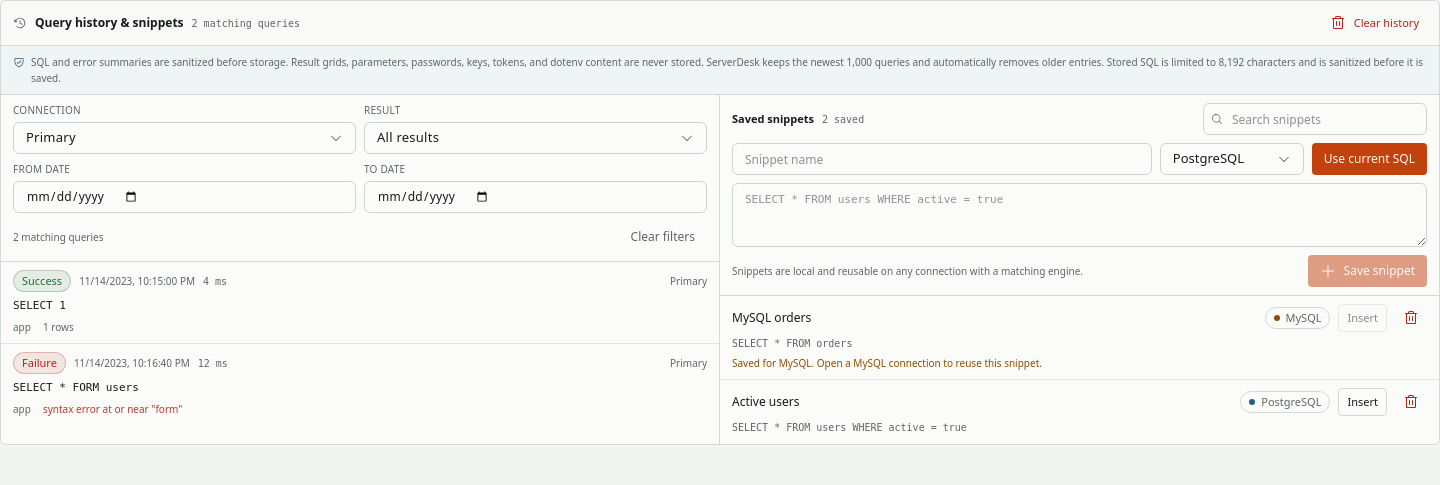
Test: DatabaseSqlHistoryPanel › saves the current SQL as a named snippet
Expected: the text "Active users" is shown, [732,393,800,410]
Type "Current database" into the field labelled "Snippet name" at (942, 159), box [732,143,1152,175]
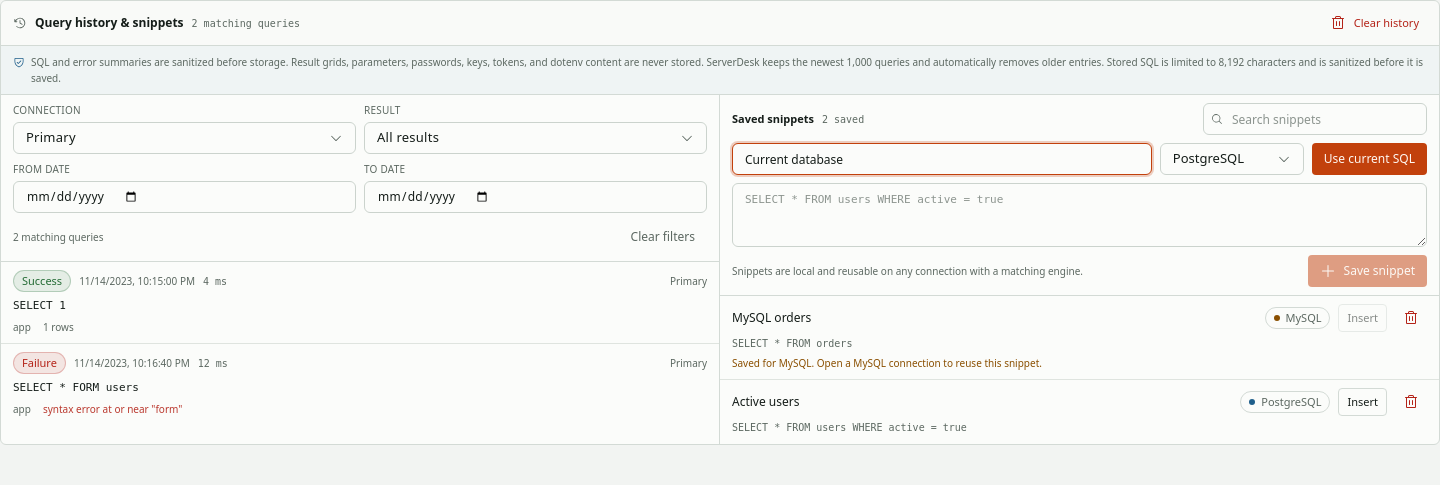
Click the button "Use current SQL" at (1369, 159), box [1312,143,1427,175]
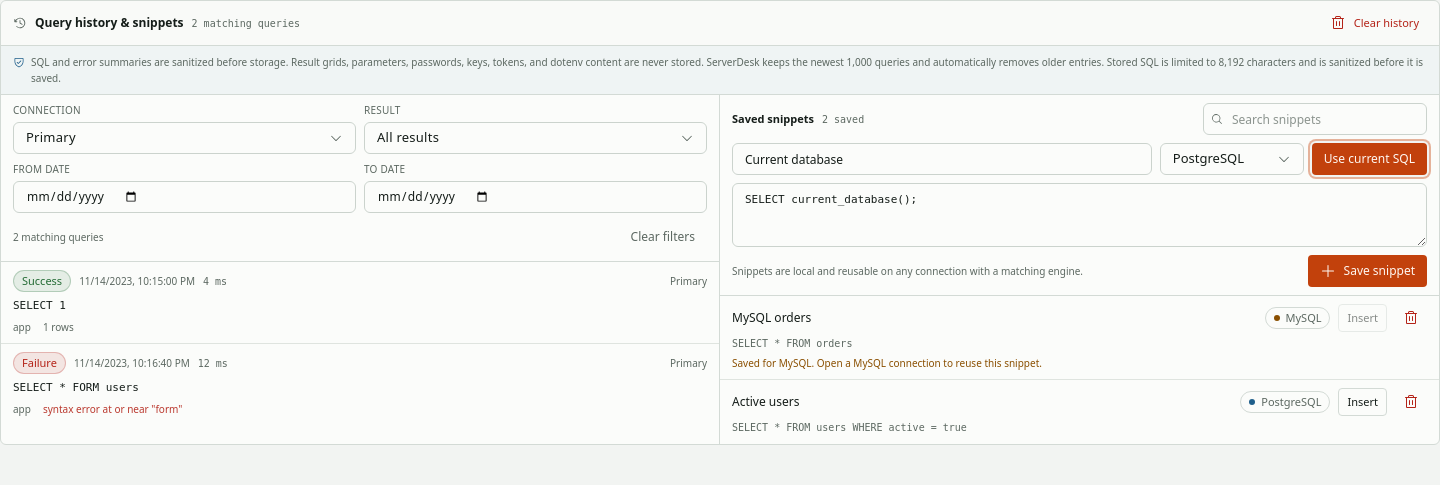
Click the button "Save snippet" at (1367, 271), box [1308,255,1427,287]
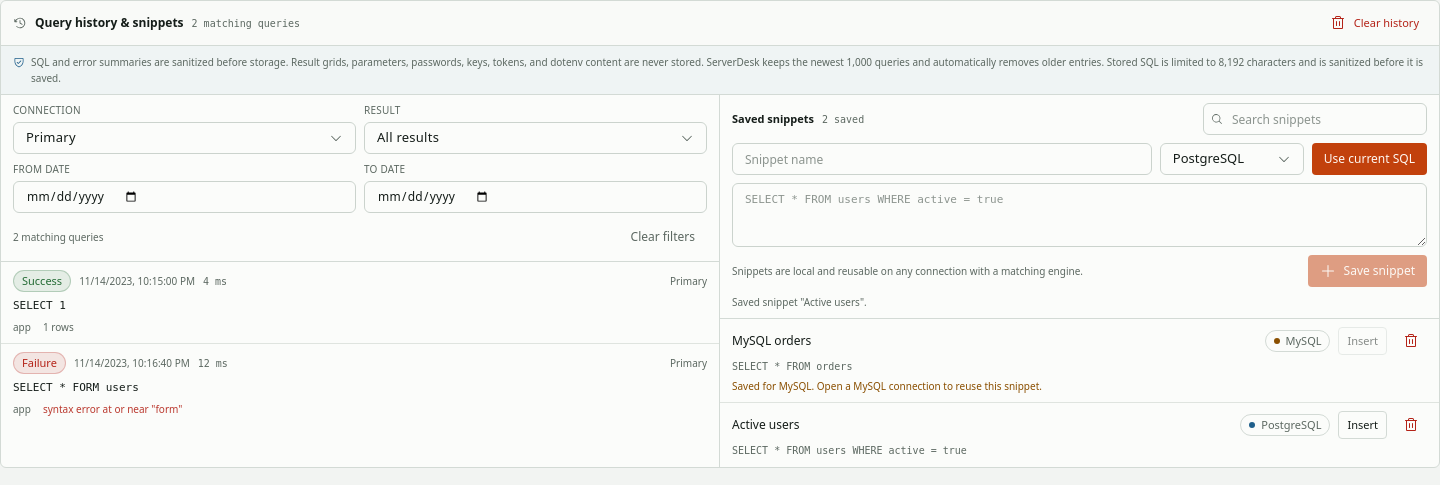
Expected: the message reads "Saved snippet \"Active users\".", [732,295,867,309]
